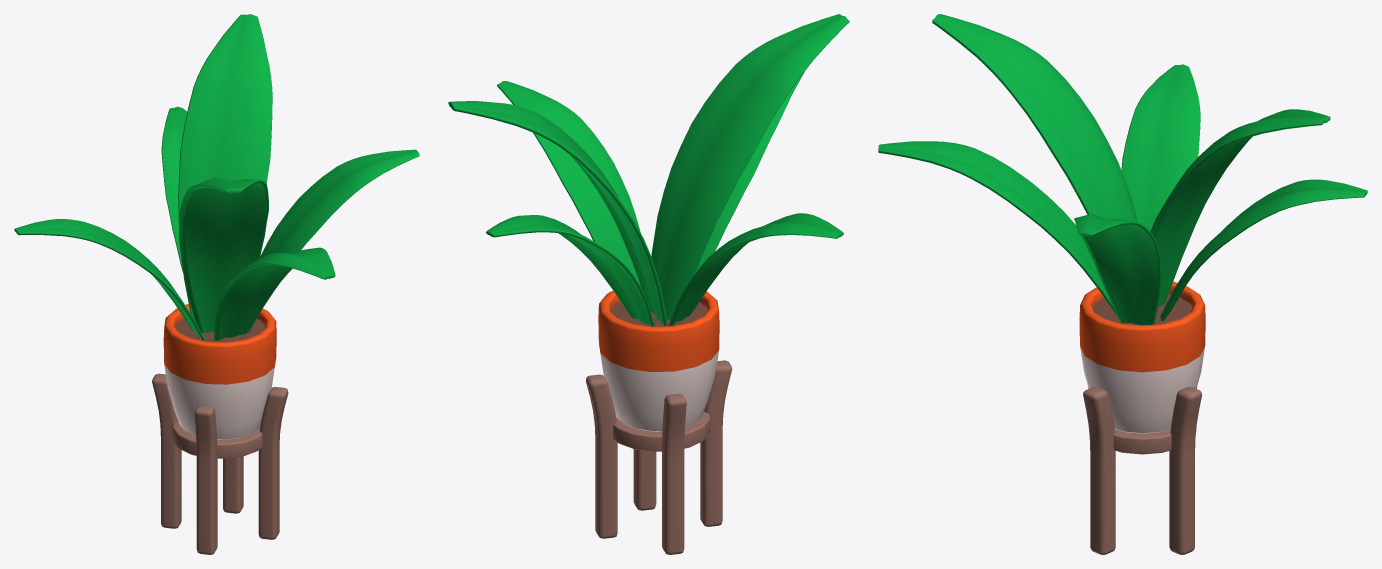
Rendered from City_1_Plant_on_stand_2.glb.
3 views of the same model, side by side, from view 1: azimuth 30°, elevation 25°; view 2: azimuth 150°, elevation 25°; view 3: azimuth 270°, elevation 25° (orthographic). The views are drawn at different scales.
Visible parts, largest first — view 1: City_1_Plant_on_stand_2; view 2: City_1_Plant_on_stand_2; view 3: City_1_Plant_on_stand_2.
Boxes of the visible parts, x1,y1,x2,y2 form: City_1_Plant_on_stand_2: [14, 14, 419, 554]; City_1_Plant_on_stand_2: [448, 14, 849, 554]; City_1_Plant_on_stand_2: [878, 14, 1367, 554].
Bounding box in the file's own units: 1.68 × 1.92 × 1.78.
Materials: 1 (1 with a texture image).
